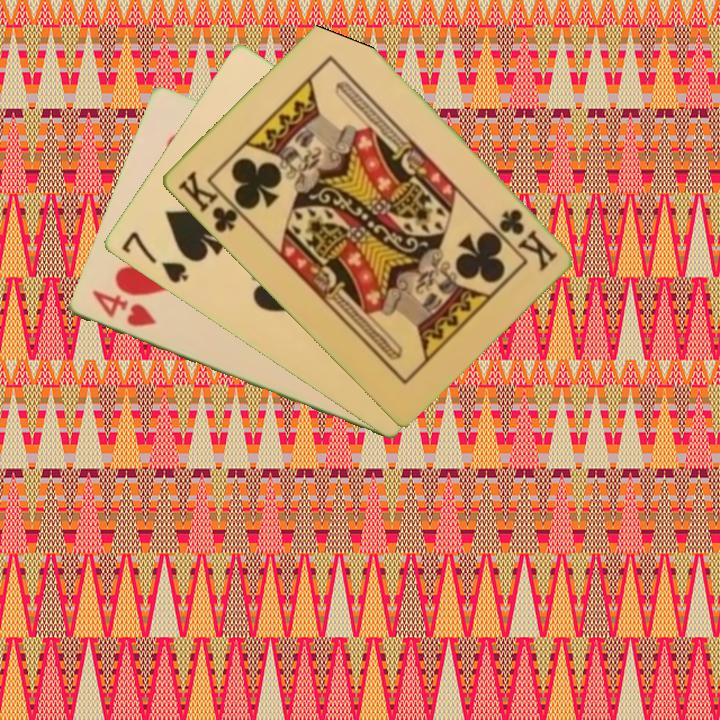4h: (87, 286, 158, 330)
7s: (117, 228, 191, 287)
Kc: (173, 167, 248, 236), (494, 205, 561, 273)
